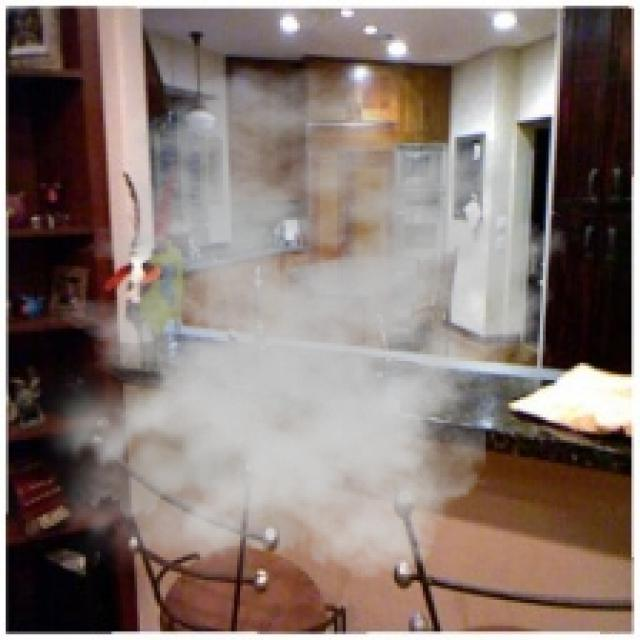smoke: (23, 66, 568, 594)
